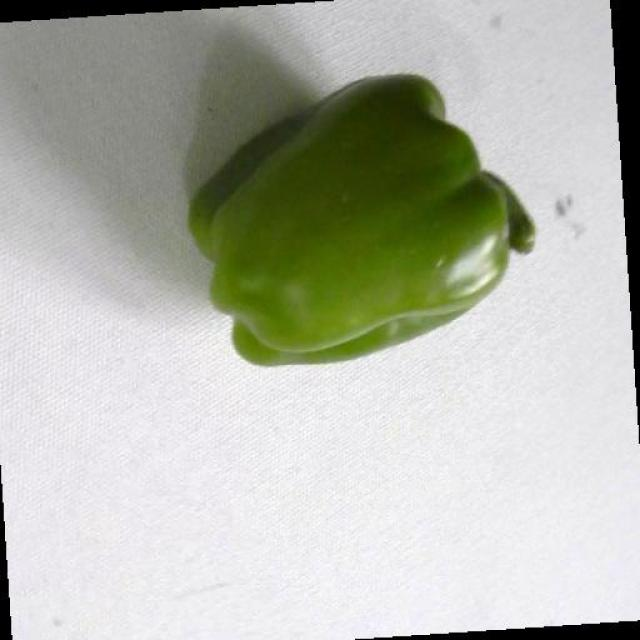Fresh_Capsicum: (192, 154, 566, 344)
